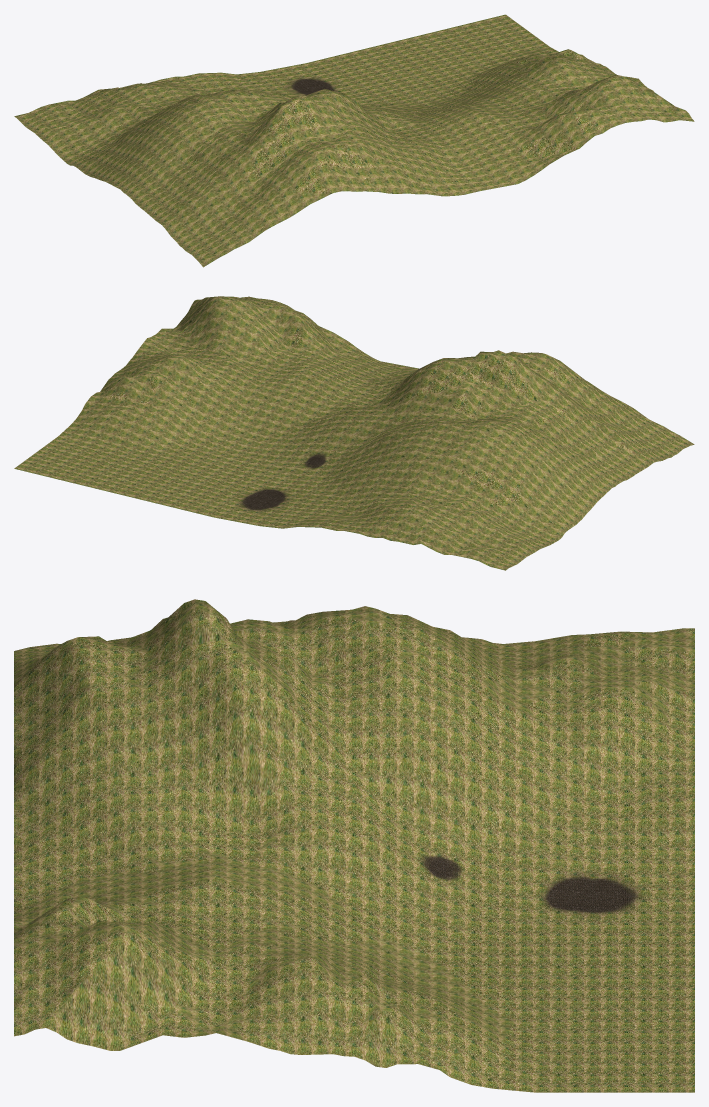
3 renders of one model, top to bottom at view 1: azimuth 30°, elevation 25°; view 2: azimuth 150°, elevation 25°; view 3: azimuth 270°, elevation 25°, orthographic. The views are drawn at different scales.
Visible parts, largest first — view 1: Mesh; view 2: Mesh; view 3: Mesh.
Part boxes in pixels (bbox=[...]): Mesh: bbox=[14, 14, 694, 267]; Mesh: bbox=[14, 296, 694, 570]; Mesh: bbox=[14, 599, 694, 1092].
Size of the model in its own units: 60 by 11.79 by 40.
1 material, 1 textured.
